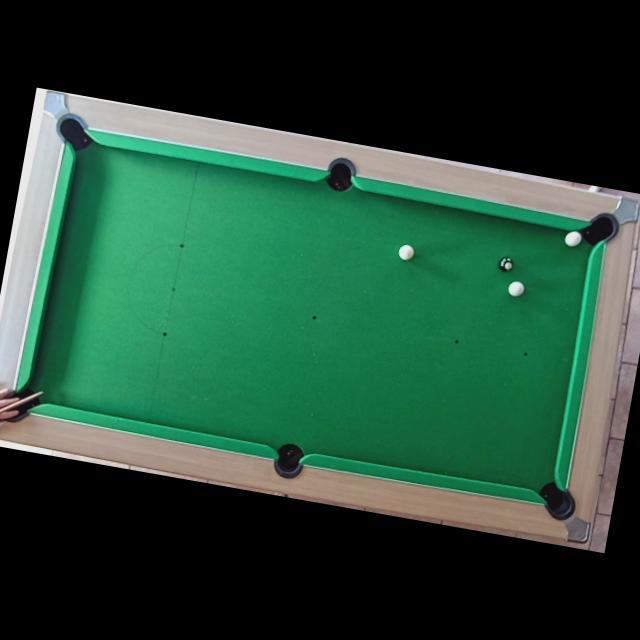Ball: (562, 229, 582, 248), (396, 242, 414, 260), (508, 280, 526, 298), (498, 256, 515, 272)
